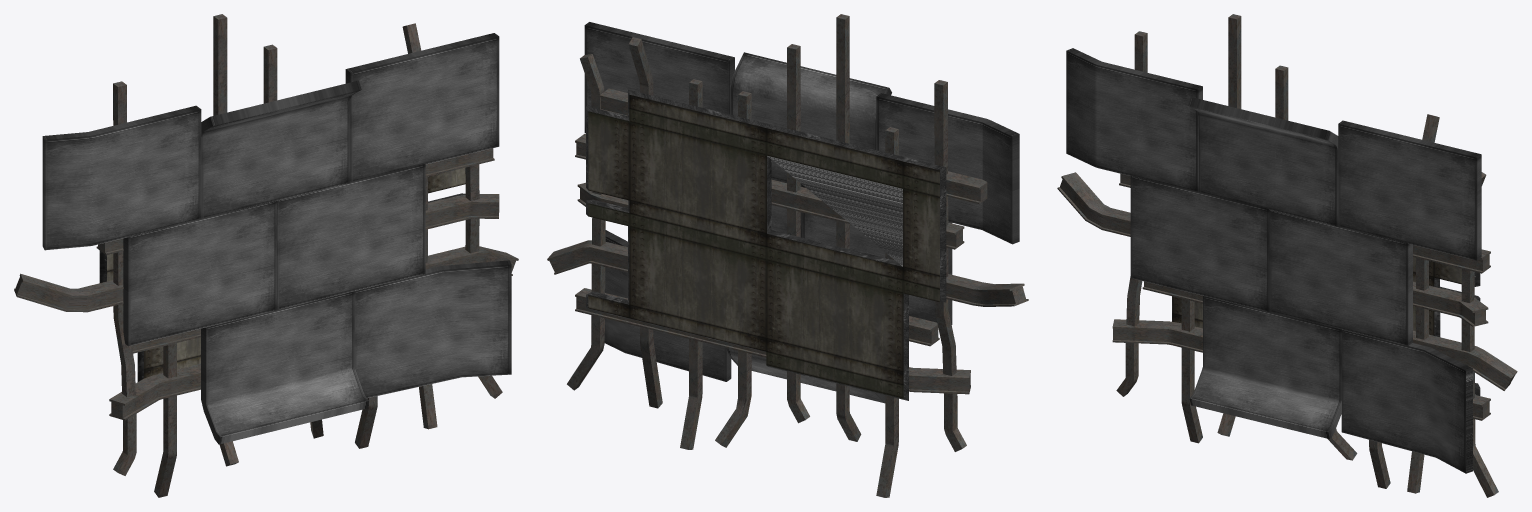
The model's file is Wreckage6.fbx.
The picture shows the model from 3 angles, left to right: view 1: azimuth 30°, elevation 25°; view 2: azimuth 150°, elevation 25°; view 3: azimuth 330°, elevation 25°; orthographic projection. The views are drawn at different scales.
Parts seen in each view (by area): view 1: polySurface21; view 2: polySurface21; view 3: polySurface21.
Boxes of the visible parts, bbox=[...] form: polySurface21: bbox=[14, 14, 518, 497]; polySurface21: bbox=[547, 14, 1028, 497]; polySurface21: bbox=[1057, 14, 1517, 497].
Bounding box in the file's own units: 15.6 × 14.27 × 2.25.
Materials: 22 (22 with a texture image).
